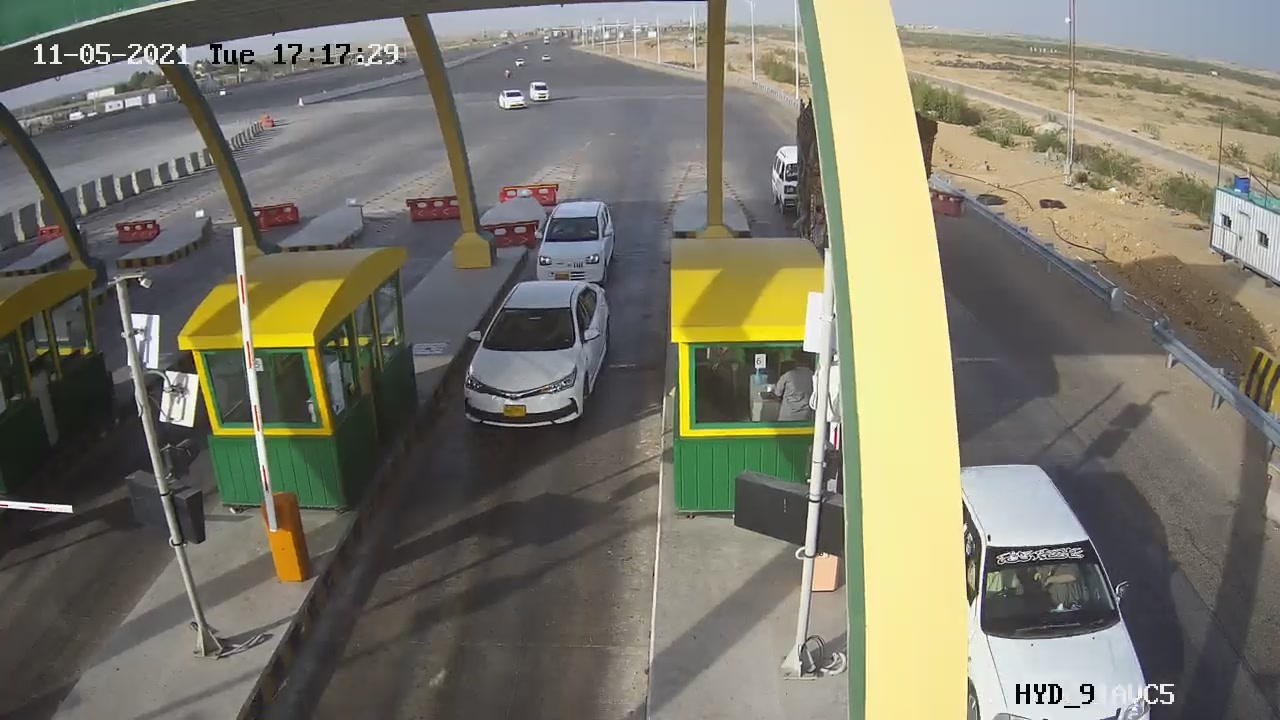F1: (448, 269, 627, 442), (518, 191, 629, 295)
